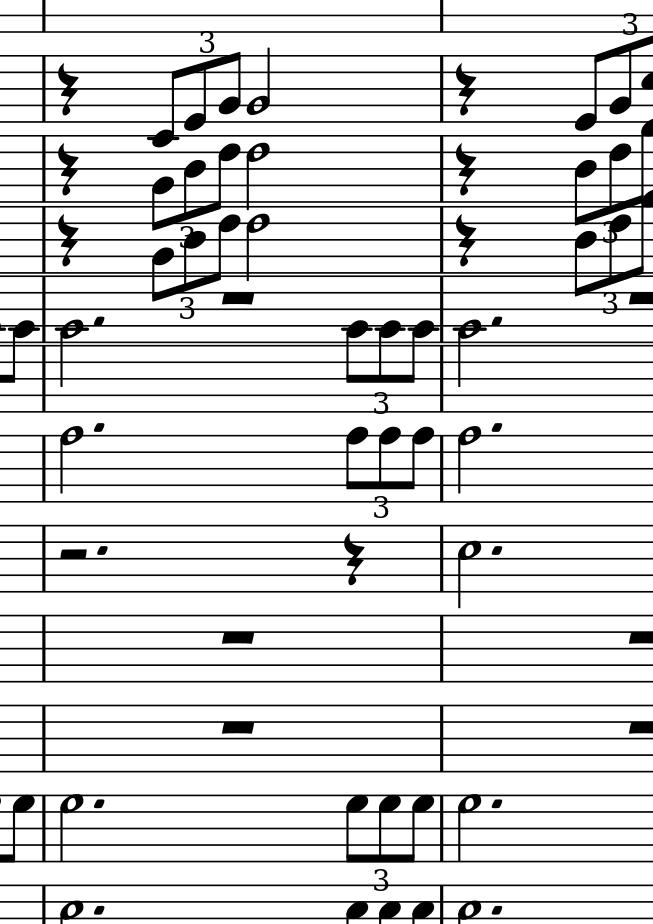2_5: (453, 523, 481, 607)
2_7: (56, 793, 87, 866), (455, 791, 483, 866)
2_8: (454, 424, 485, 506), (56, 424, 83, 505)
8_7: (406, 793, 433, 863), (376, 794, 402, 864), (344, 794, 368, 865)
8_8: (407, 425, 435, 505), (377, 425, 403, 504), (343, 425, 368, 505)
Rests1: (216, 625, 262, 649), (222, 715, 258, 736), (218, 290, 259, 308)
Rests2: (56, 544, 90, 564)
Rests4: (56, 213, 80, 273), (454, 141, 478, 199), (453, 214, 478, 269), (55, 141, 79, 198), (342, 532, 366, 587), (455, 61, 474, 117), (58, 63, 77, 116)
Single_barline: (434, 618, 450, 684), (435, 435, 450, 503), (436, 55, 450, 125), (37, 435, 51, 503), (38, 347, 52, 414), (436, 797, 451, 856), (435, 343, 447, 414), (435, 531, 449, 591), (434, 707, 448, 766), (39, 523, 50, 592), (38, 618, 51, 675), (38, 57, 49, 118), (38, 705, 49, 766)
